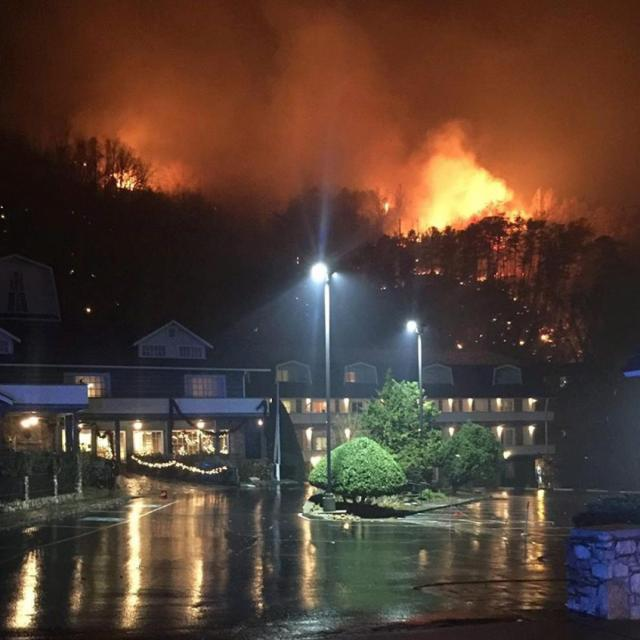Fire: (402, 162, 512, 260), (89, 158, 149, 199)
Smoke: (75, 12, 593, 190)
